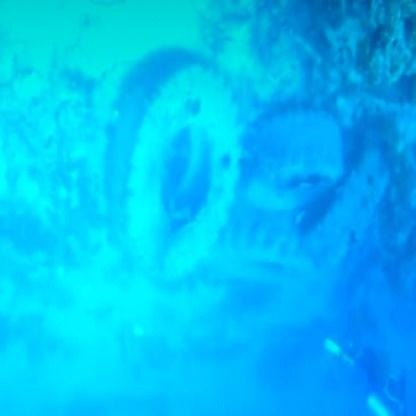tire: (94, 44, 251, 276), (304, 124, 395, 266), (240, 108, 343, 206)
